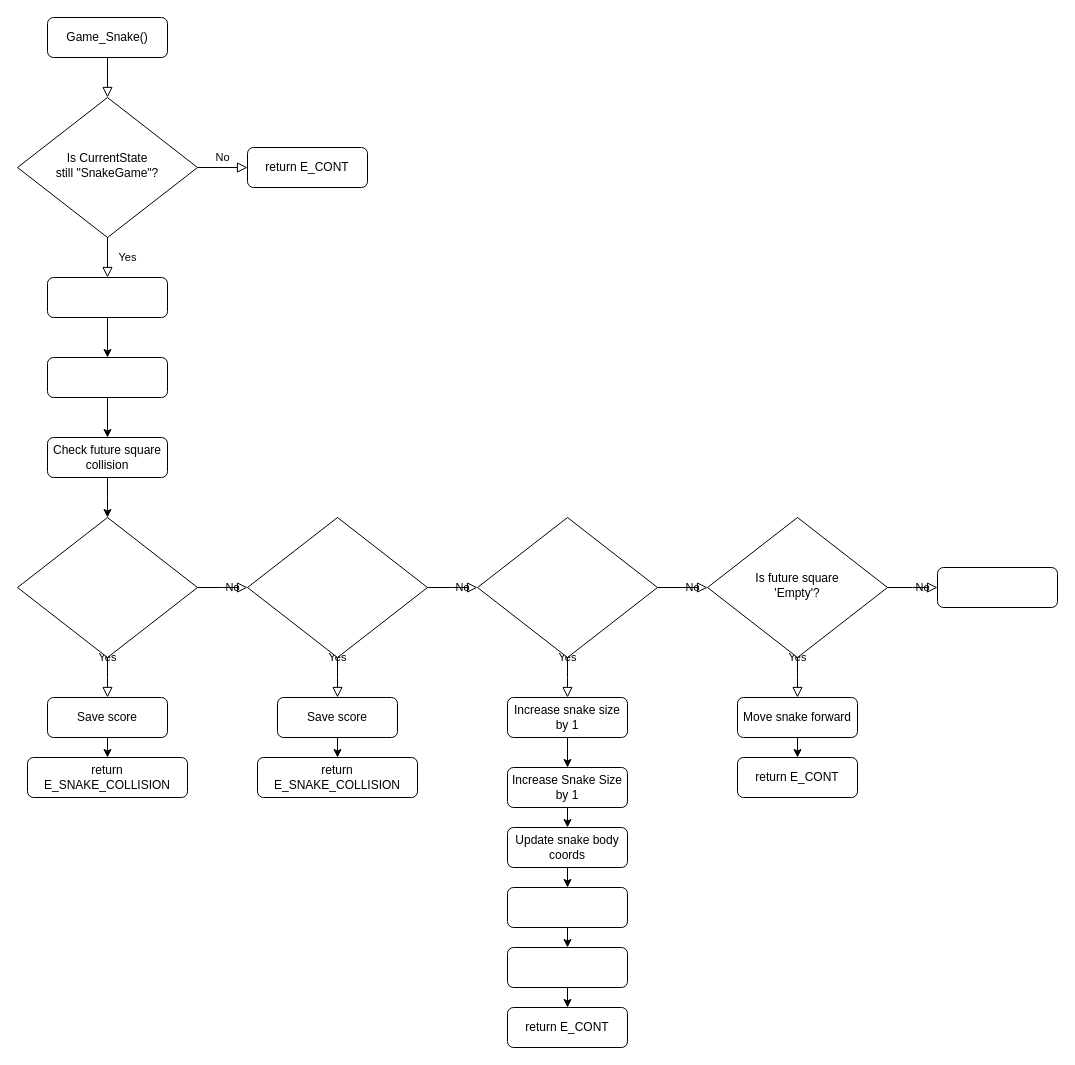
Image size: 1075x1065. Some labels were removed from this diagram. Each missing label, with the centre of its shape:
"Create new fruit&delete old one" belongs at (x=567, y=967).
"Display board" belongs at (x=107, y=297).
"Is future square a 'Fruit'?" belongs at (x=567, y=587).
"Is future square a 'Snake'?" belongs at (x=107, y=587).
"Is future square a 'Wall'?" belongs at (x=337, y=587).
"return E_ERROR" belongs at (x=997, y=587).
"Sleep a period of time" belongs at (x=107, y=377).
"Update map coords" belongs at (x=567, y=907).
